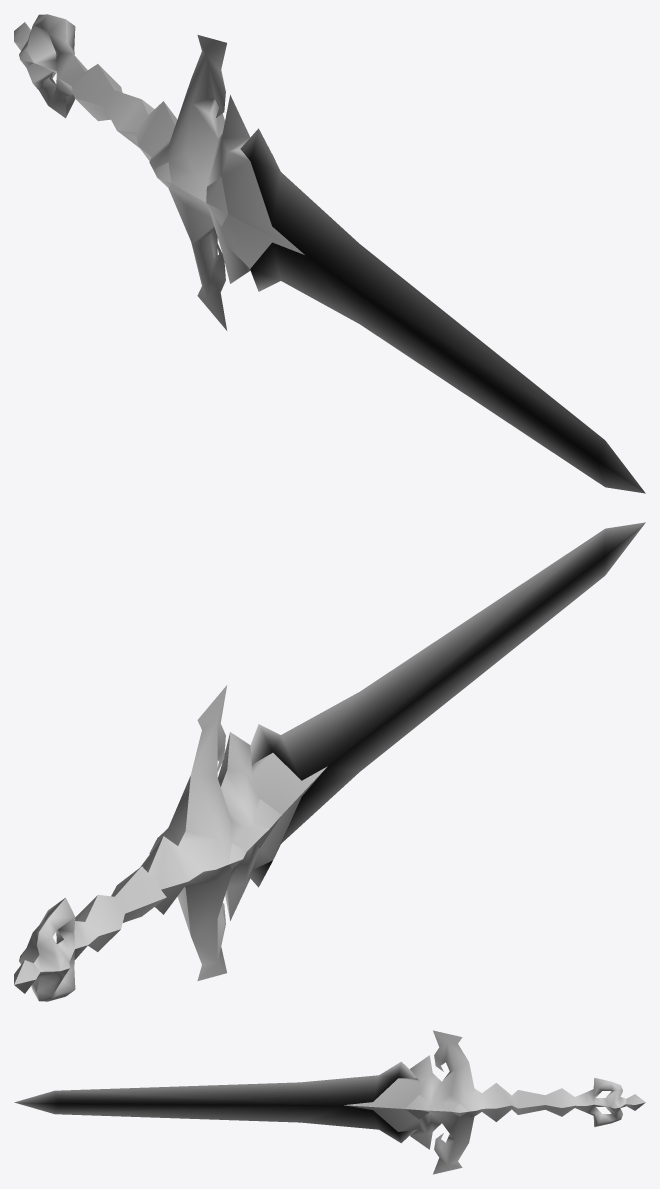
The model's file is xuweizhijian.FBX.
The picture shows the model from 3 angles, top to bottom: view 1: azimuth 30°, elevation 25°; view 2: azimuth 150°, elevation 25°; view 3: azimuth 270°, elevation 25°; orthographic projection. The views are drawn at different scales.
Parts seen in each view (by area): view 1: SMDImport; view 2: SMDImport; view 3: SMDImport.
Boxes of the visible parts, x1,y1,x2,y2 form: SMDImport: (14, 14, 645, 493); SMDImport: (14, 522, 645, 1001); SMDImport: (14, 1030, 645, 1174).
Size of the model in its own units: 14.67 by 47.14 by 187.
